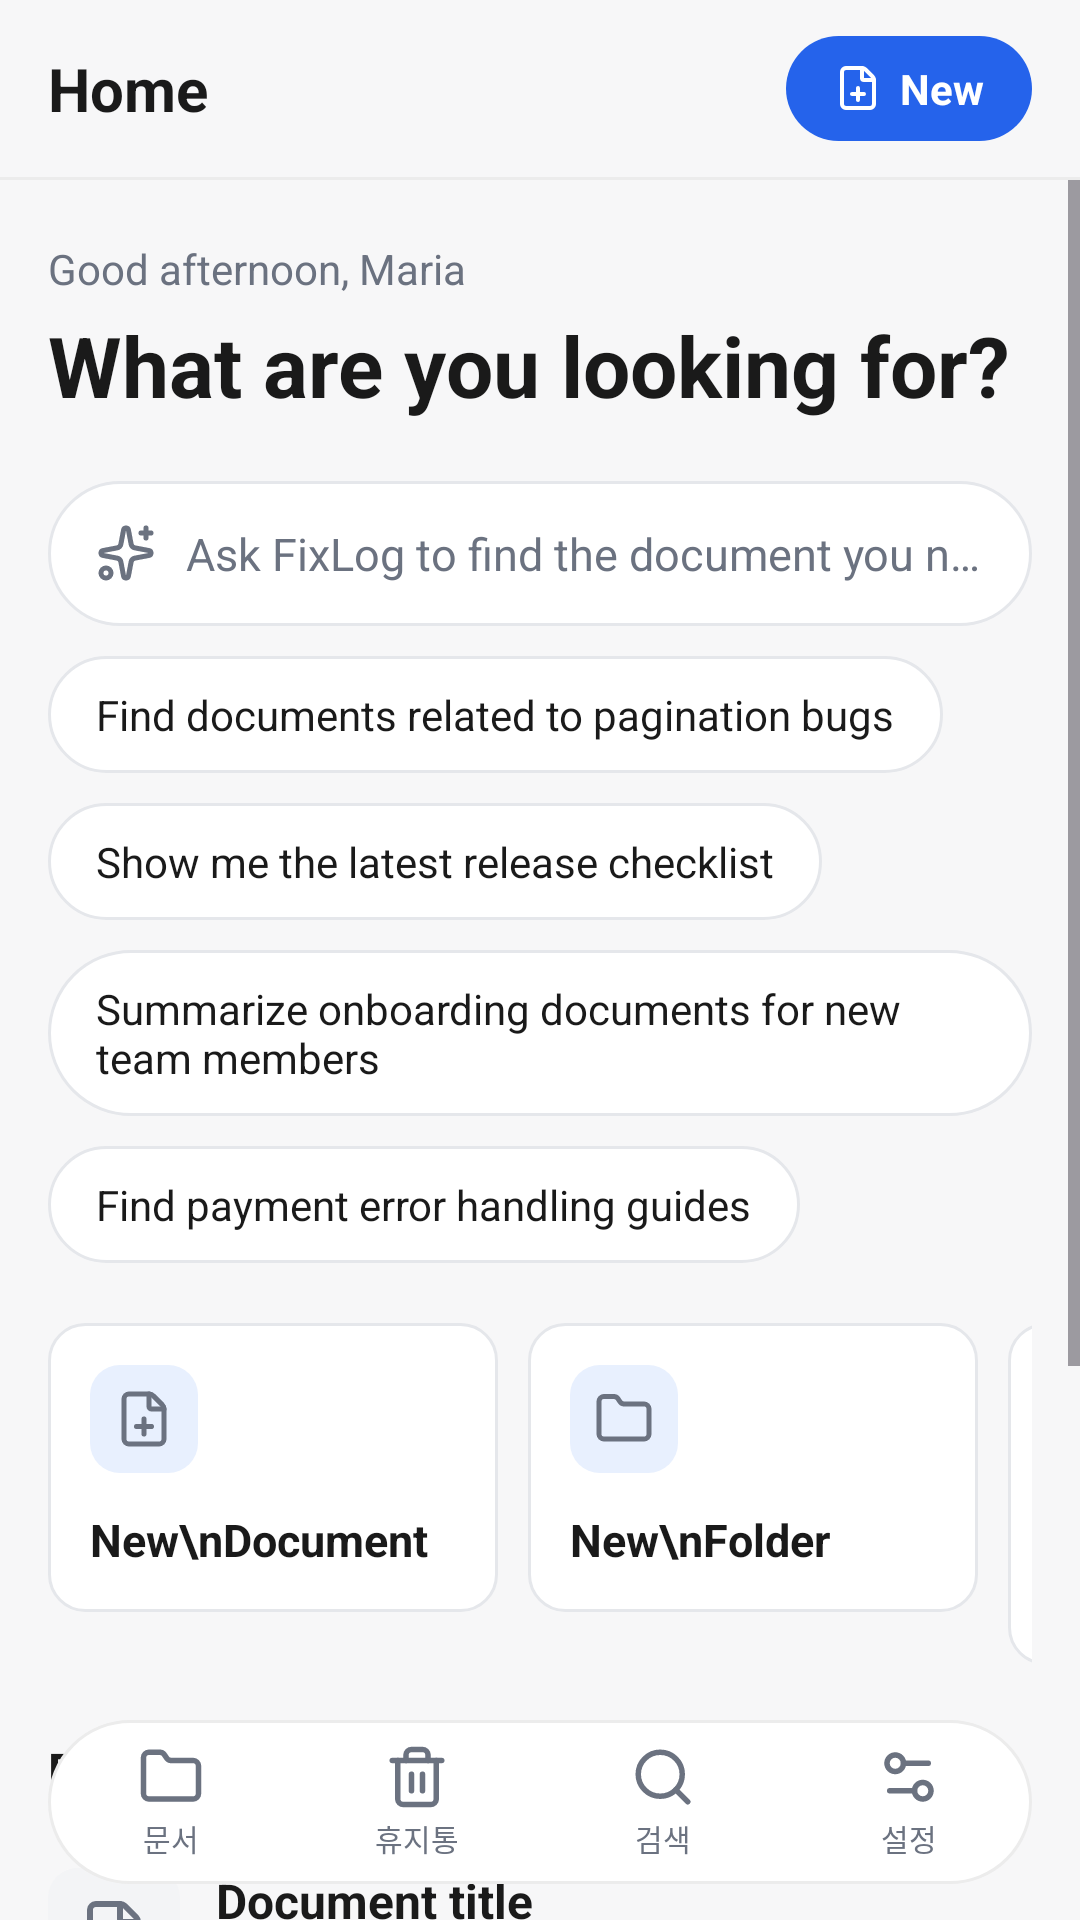

Icons on this 1080 x 1920 Android screen, each with its box as (x1, y1, x2, y2):
New Document: (121, 1391, 167, 1447)
New Folder: (570, 1365, 678, 1473)
